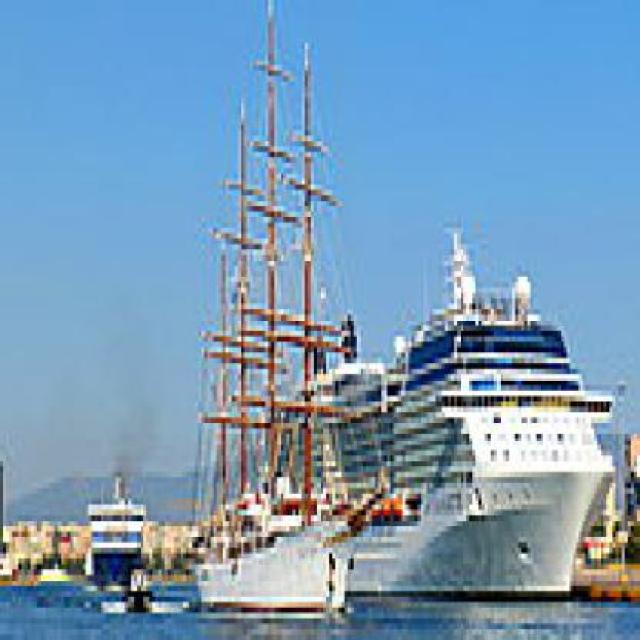cruise: (256, 218, 629, 619)
